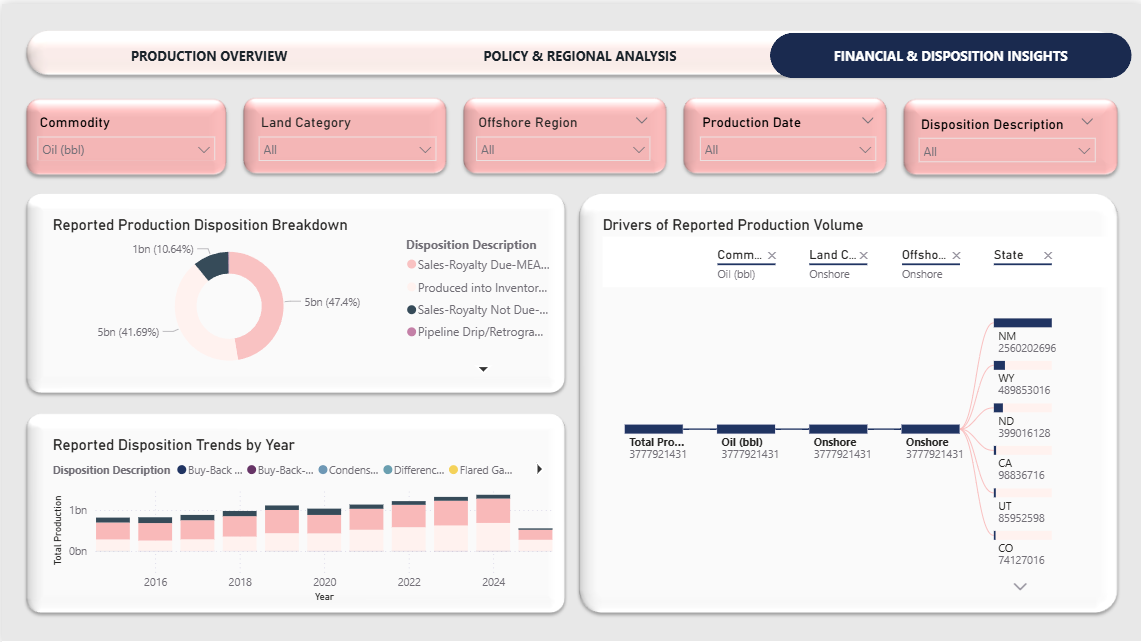

The dashboard page shown, as its layout file describes it:
{"tool":"powerbi","page":{"name":"FINANCIAL & DISPOSITION INSIGHTS","canvas":[1280,720],"ordinal":2},"visuals":[{"type":"slicer","fields":{"Values":["OGORBcsv.Disposition Description"]},"box":[1018.6,120,218.6,71.4],"z":0},{"type":"slicer","fields":{"Values":["OGORBcsv.Commodity"]},"box":[28.8,119.4,219.6,56.3],"z":1000},{"type":"slicer","fields":{"Values":["OGORBcsv.Land Category"]},"box":[277.2,119.4,219.6,93.3],"z":2000},{"type":"slicer","fields":{"Values":["OGORBcsv.Offshore Region"]},"box":[521.4,119.4,215.4,72.7],"z":3000},{"type":"slicer","fields":{"Values":["OGORBcsv.Production Date"]},"box":[772.6,119.4,218.2,72.7],"z":4000},{"type":"pageNavigator","box":[29.4,32.3,1239.6,51.9],"z":5000},{"type":"columnChart","title":"Reported Disposition Trends by Year","fields":{"Category":["Date.Year"],"Series":["OGORBcsv.Disposition Description"],"Y":["OGORBcsv.Total Production"]},"box":[51.5,483.7,570.8,192.7],"z":6000},{"type":"donutChart","title":"Reported Production Disposition Breakdown","fields":{"Category":["OGORBcsv.Disposition Description"],"Y":["OGORBcsv.Total Production"]},"box":[51.5,237.7,577.3,185.3],"z":7000},{"type":"decompositionTreeVisual","title":"Drivers of Reported Production Volume","fields":{"ExplainBy":["OGORBcsv.Commodity","OGORBcsv.Land Category","OGORBcsv.Offshore Region","OGORBcsv.State"],"Analyze":["OGORBcsv.Total Production"]},"box":[669,237.7,581.1,438.8],"z":8000}]}

Visuals, with their boxes in screenshot pixels (x1, y1, x2, y2), scaled from the page's 1280x720 canvas onto the 1141x642 screenshot:
slicer - OGORBcsv.Disposition Description: 908/107/1103/171
slicer - OGORBcsv.Commodity: 26/106/221/157
slicer - OGORBcsv.Land Category: 247/106/443/190
slicer - OGORBcsv.Offshore Region: 465/106/657/171
slicer - OGORBcsv.Production Date: 689/106/883/171
pageNavigator: 26/29/1131/75
"Reported Disposition Trends by Year" columnChart: 46/431/555/603
"Reported Production Disposition Breakdown" donutChart: 46/212/561/377
"Drivers of Reported Production Volume" decompositionTreeVisual: 596/212/1114/603
